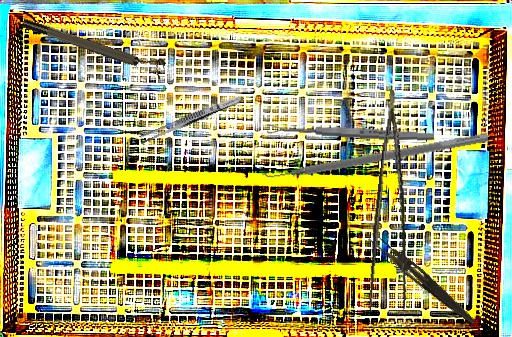Dressing Forceps: (365, 231, 480, 327), (137, 92, 246, 146)
Fixation Ring: (20, 9, 167, 81)
Spatula Surgical: (260, 122, 489, 186)
Surgical Spoon: (266, 122, 435, 143)
Tissue Forceps: (362, 89, 431, 322)
